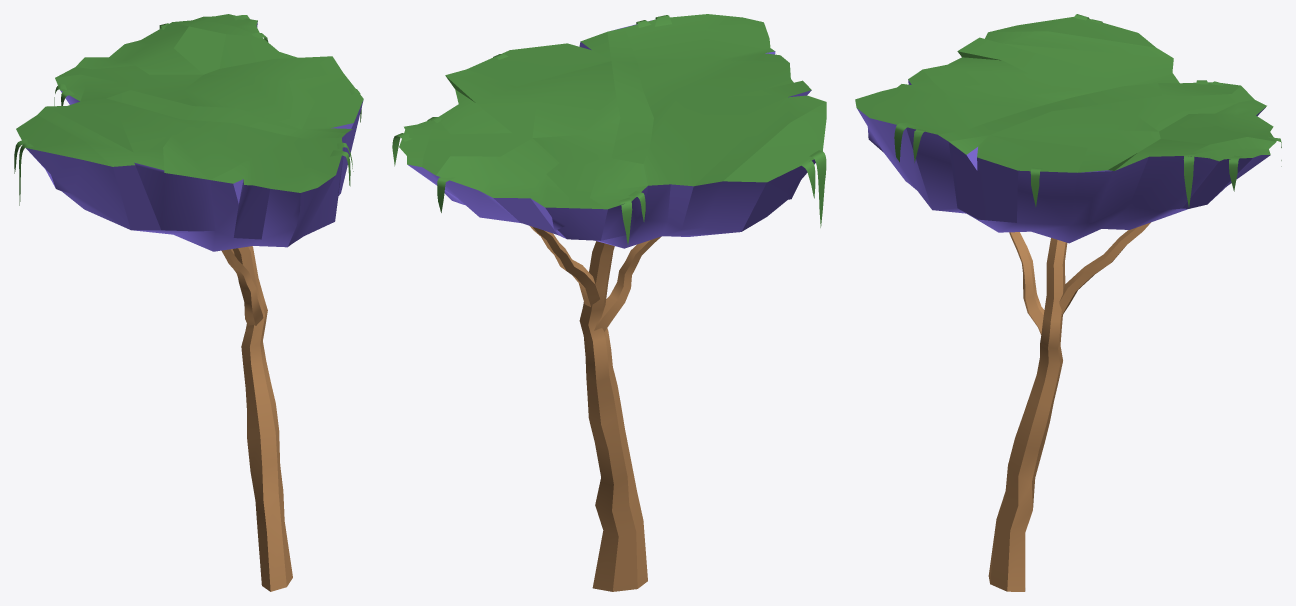
Rendered from tree_A_canopy_B_C_solo_lods.fbx.
The picture shows the model from 3 angles, left to right: view 1: azimuth 30°, elevation 25°; view 2: azimuth 150°, elevation 25°; view 3: azimuth 270°, elevation 25°; orthographic projection. The views are drawn at different scales.
Parts seen in each view (by area): view 1: tree_A_canopy_B_C_LOD0, tree_B_canopy_B_C_trunk_A_LOD0, tree_B_canopy_B_C_trunk_B_LOD0; view 2: tree_A_canopy_B_C_LOD0, tree_B_canopy_B_C_trunk_A_LOD0, tree_B_canopy_B_C_trunk_B_LOD0, tree_B_canopy_B_C_trunk_C_LOD0; view 3: tree_A_canopy_B_C_LOD0, tree_B_canopy_B_C_trunk_A_LOD0, tree_B_canopy_B_C_trunk_C_LOD0, tree_B_canopy_B_C_trunk_B_LOD0.
Boxes of the visible parts, x1=… form: tree_A_canopy_B_C_LOD0: x1=16, y1=14, x2=363, y2=251; tree_B_canopy_B_C_trunk_A_LOD0: x1=233, y1=246, x2=292, y2=591; tree_B_canopy_B_C_trunk_B_LOD0: x1=221, y1=249, x2=263, y2=325; tree_A_canopy_B_C_LOD0: x1=399, y1=14, x2=826, y2=248; tree_B_canopy_B_C_trunk_A_LOD0: x1=579, y1=241, x2=647, y2=591; tree_B_canopy_B_C_trunk_B_LOD0: x1=594, y1=236, x2=661, y2=331; tree_B_canopy_B_C_trunk_C_LOD0: x1=530, y1=226, x2=600, y2=306; tree_A_canopy_B_C_LOD0: x1=855, y1=17, x2=1276, y2=243; tree_B_canopy_B_C_trunk_A_LOD0: x1=988, y1=238, x2=1067, y2=591; tree_B_canopy_B_C_trunk_C_LOD0: x1=1059, y1=222, x2=1150, y2=316; tree_B_canopy_B_C_trunk_B_LOD0: x1=1009, y1=232, x2=1044, y2=334.
Size of what is drawn, in the model's own units: 348 by 479 by 394.
